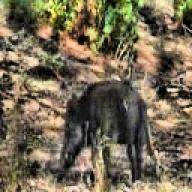boar: (57, 76, 156, 186)
